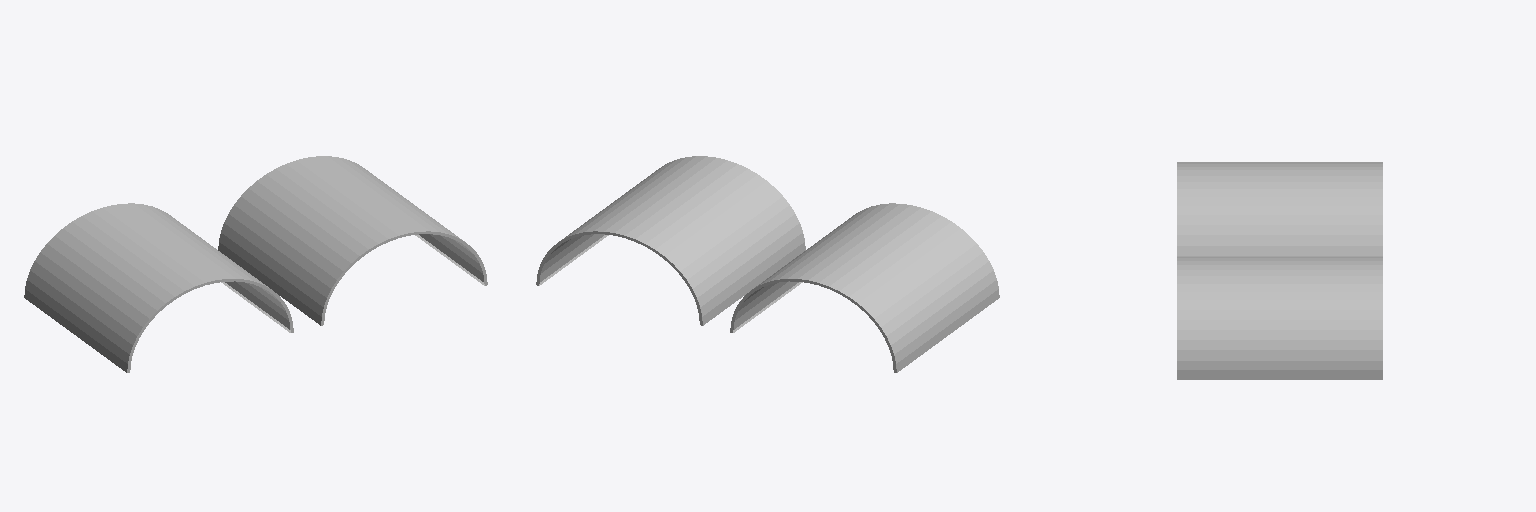
The model's file is AcoperisHangar.obj.
The picture shows the model from 3 angles: view 1: azimuth 30°, elevation 25°; view 2: azimuth 150°, elevation 25°; view 3: azimuth 270°, elevation 25°; orthographic projection.
Parts seen in each view (by area): view 1: AcoperisHangar_Plane.015; view 2: AcoperisHangar_Plane.015; view 3: AcoperisHangar_Plane.015.
Boxes of the visible parts, x1=… form: AcoperisHangar_Plane.015: x1=24, y1=156, x2=487, y2=372; AcoperisHangar_Plane.015: x1=536, y1=156, x2=999, y2=372; AcoperisHangar_Plane.015: x1=1177, y1=162, x2=1382, y2=379.
Bounding box in the file's own units: 82.03 × 15.52 × 40.56.